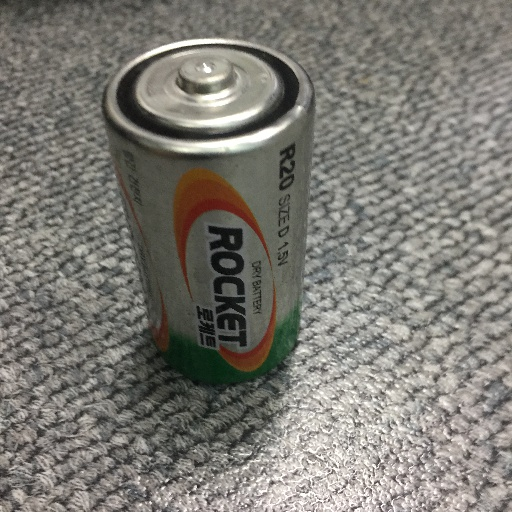Battery_0: (87, 27, 333, 395)
